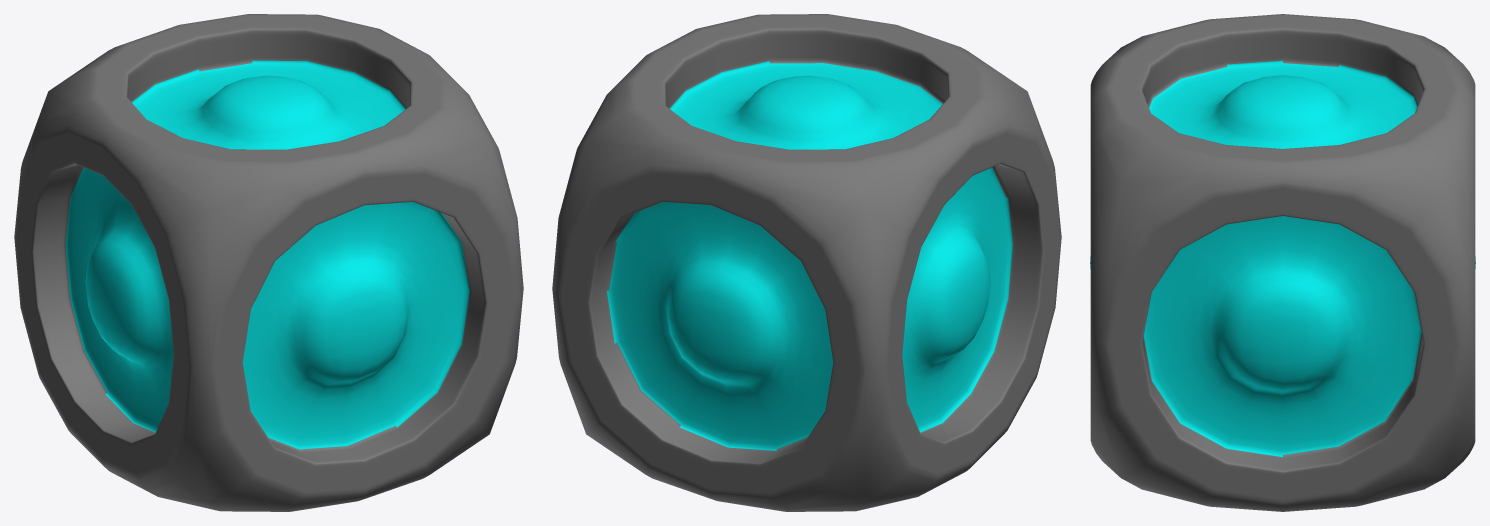
File: BuildingBlock.fbx
3 views of the same model, side by side, from view 1: azimuth 30°, elevation 25°; view 2: azimuth 150°, elevation 25°; view 3: azimuth 270°, elevation 25° (orthographic).
Parts seen in each view (by area): view 1: pCube4; view 2: pCube4; view 3: pCube4.
Boxes of the visible parts, <box> form: pCube4: <box>14,14,523,511</box>; pCube4: <box>552,14,1061,511</box>; pCube4: <box>1090,14,1475,511</box>.
Bounding box in the file's own units: 100 × 100 × 100.
